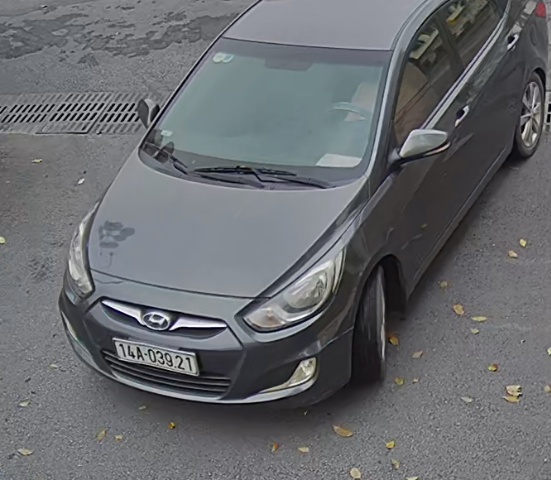vehicle plate: (107, 330, 205, 378)
